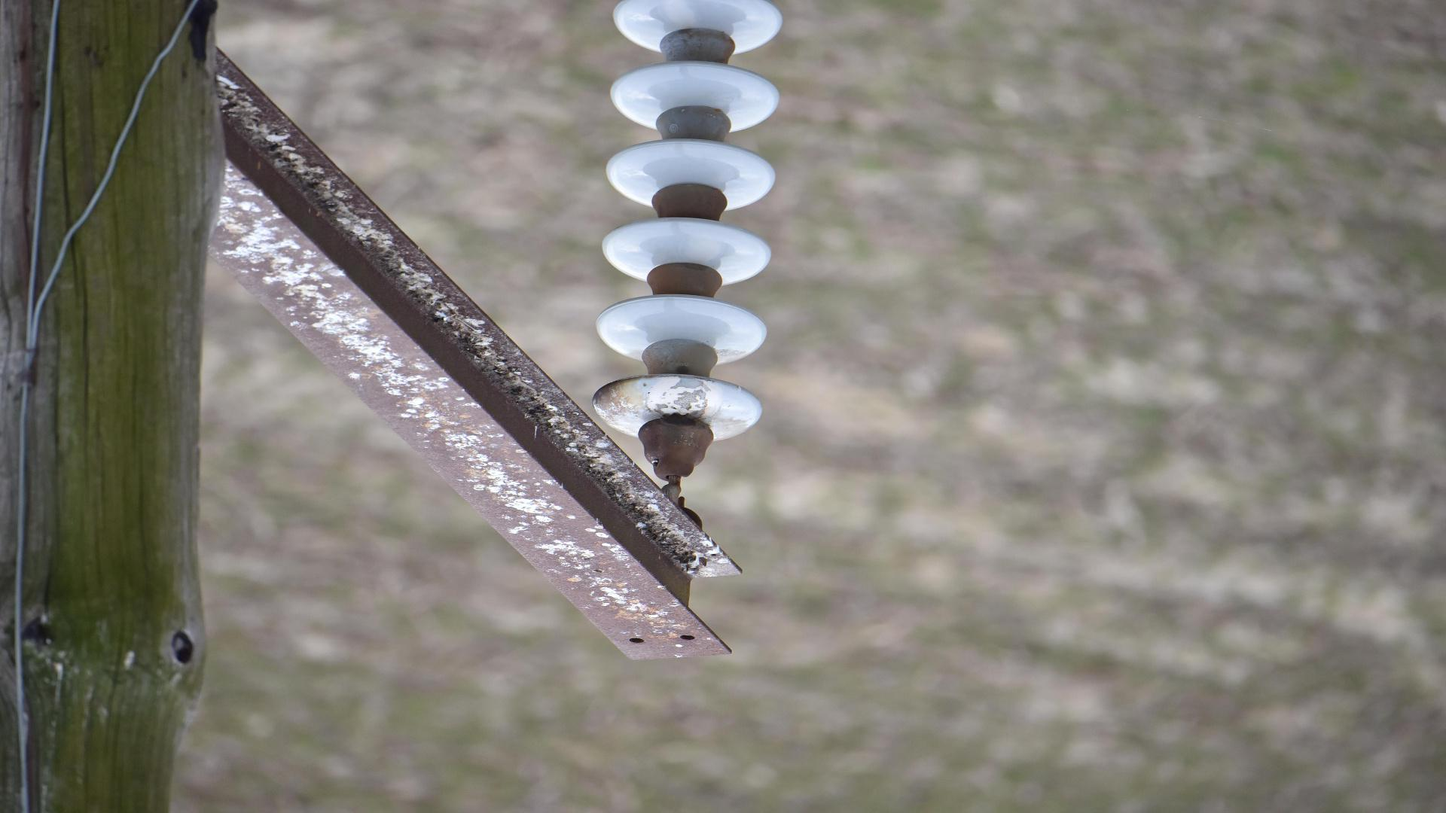insulator: (587, 1, 791, 440)
insulator_flashover: (644, 373, 712, 420)
